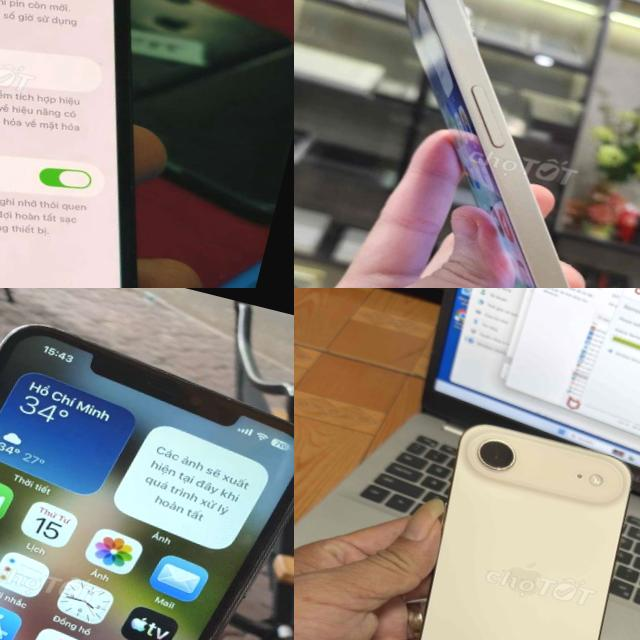gen_11: (0, 288, 294, 640)
gen_12_13: (294, 0, 640, 288), (0, 0, 255, 288)
gen_17: (392, 408, 640, 640)
scratch: (204, 381, 242, 412)
